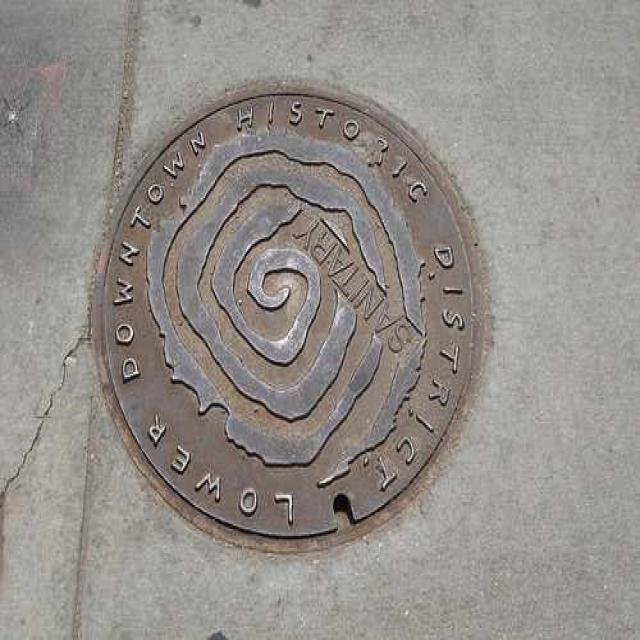manhole: (93, 85, 484, 549)
